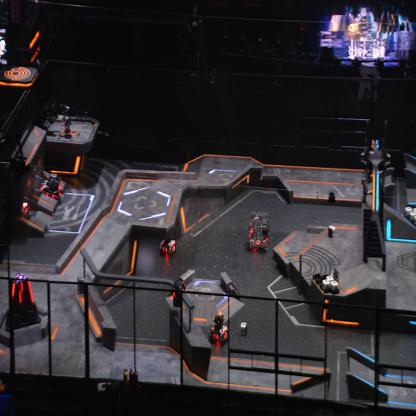car: (248, 211, 270, 251), (208, 312, 230, 346), (39, 172, 63, 203), (158, 229, 176, 259), (10, 195, 30, 222)
